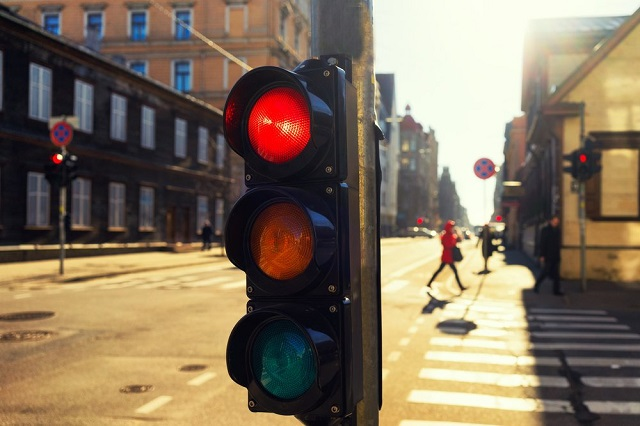pedestrian lane: (431, 300, 640, 426)
person: (427, 221, 467, 293), (538, 218, 562, 294)
pole: (310, 1, 382, 426), (579, 182, 587, 294)
traffic light: (222, 55, 358, 412), (572, 150, 591, 180)
